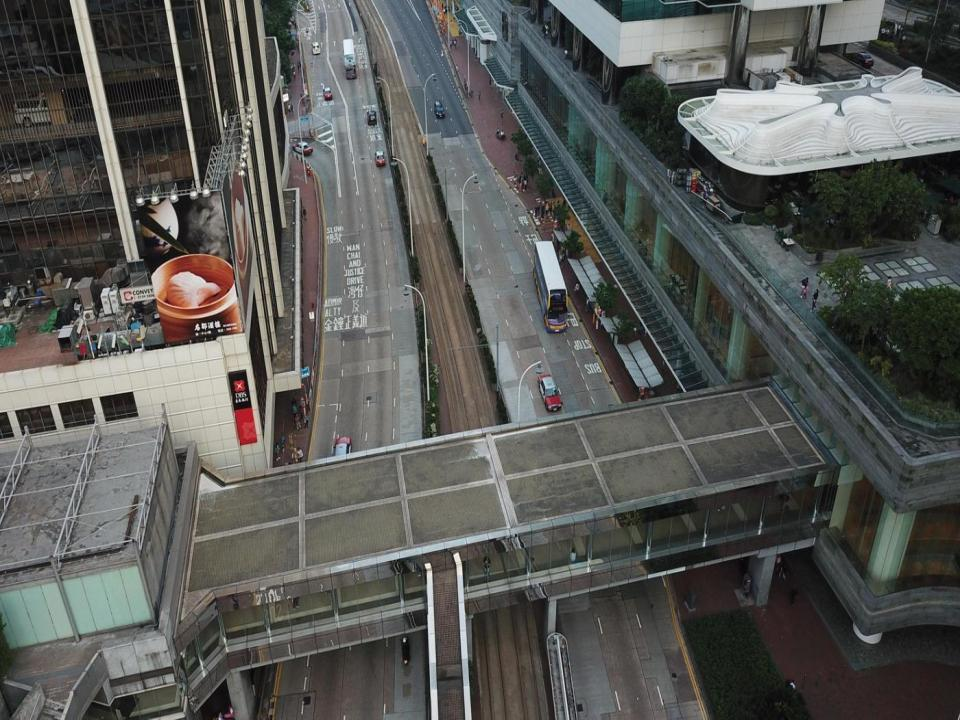bus: (533, 240, 568, 333)
car: (537, 375, 562, 411), (333, 436, 352, 472), (852, 52, 874, 68), (292, 141, 313, 154), (434, 100, 444, 119), (374, 151, 386, 165), (366, 111, 377, 124), (323, 87, 333, 100)
truck: (343, 38, 356, 80)
van: (13, 92, 77, 127), (311, 42, 321, 55)
